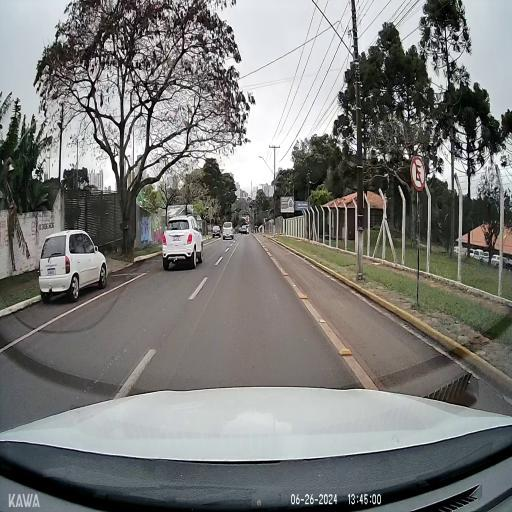R-6a: (410, 154, 426, 190)
